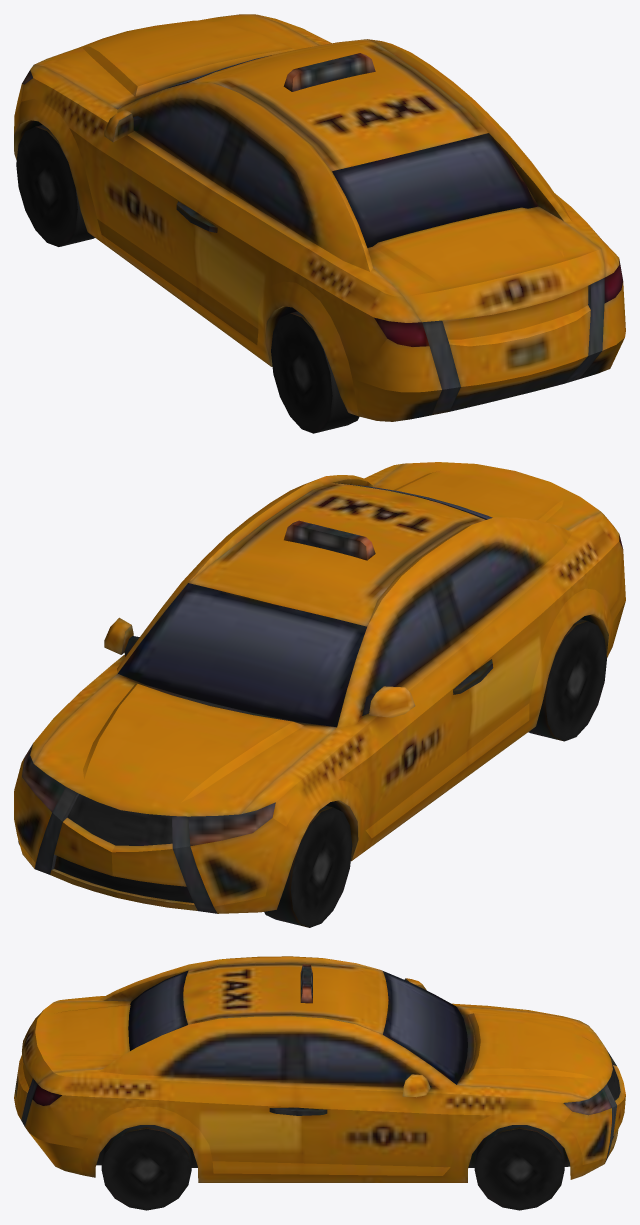
Rendered from taxi.glb.
The picture shows the model from 3 angles, top to bottom: view 1: azimuth 30°, elevation 25°; view 2: azimuth 150°, elevation 25°; view 3: azimuth 270°, elevation 25°; orthographic projection. The views are drawn at different scales.
Visible parts, largest first — view 1: e7_taxi_0__0; view 2: e7_taxi_0__0; view 3: e7_taxi_0__0.
Part boxes in pixels (x1=…): e7_taxi_0__0: x1=14, y1=14, x2=625, y2=433; e7_taxi_0__0: x1=14, y1=462, x2=625, y2=927; e7_taxi_0__0: x1=14, y1=956, x2=625, y2=1210.
Bounding box in the file's own units: 1.92 × 1.54 × 4.6.
Materials: 1 (1 with a texture image).
